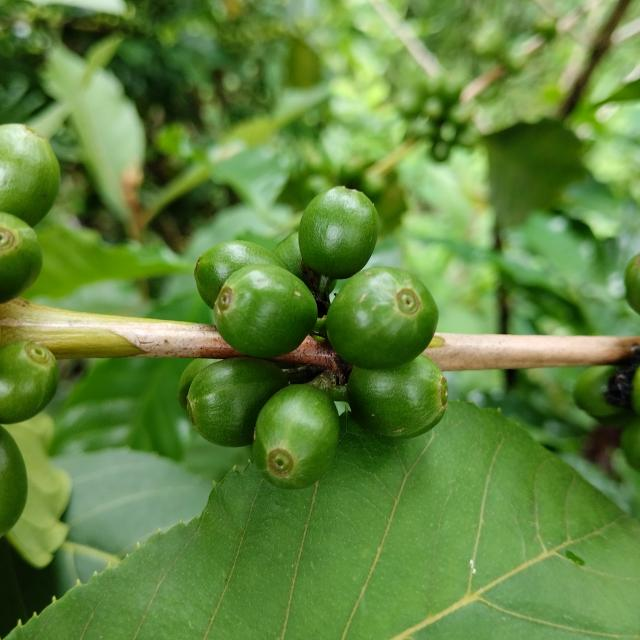green: (326, 266, 439, 370), (213, 264, 318, 358), (186, 357, 288, 447), (253, 385, 339, 490), (348, 355, 449, 439), (299, 186, 379, 279), (194, 240, 285, 309), (0, 123, 59, 226), (0, 342, 58, 424), (0, 211, 41, 303), (0, 426, 27, 537), (177, 359, 219, 411), (273, 231, 304, 281)
